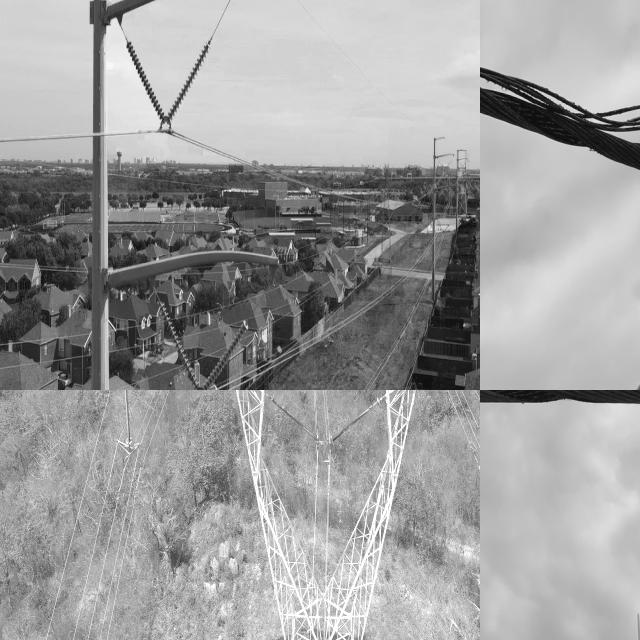杆塔: (119, 390, 480, 640)
正常绝缘子: (157, 27, 218, 141), (120, 28, 172, 135), (155, 291, 206, 390), (196, 309, 257, 390), (329, 396, 381, 446), (270, 394, 321, 444), (120, 390, 135, 450)
电缆破损: (482, 53, 640, 192)
